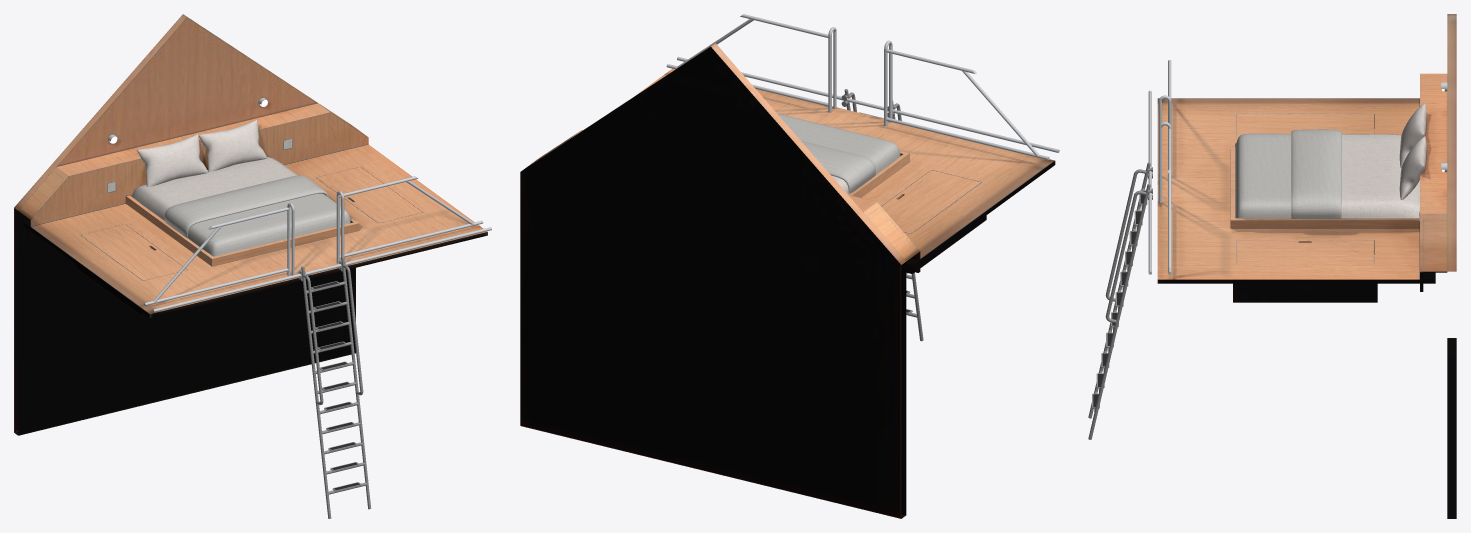
Rendered from Mezzanine King.glb.
3 renders of one model, left to right at view 1: azimuth 30°, elevation 25°; view 2: azimuth 150°, elevation 25°; view 3: azimuth 270°, elevation 25°, orthographic. The views are drawn at different scales.
Visible parts, largest first — view 1: Interior_Wood_Black_Base_Bed2.001, Interior_Wood_Bed_2, White_fabric_Bed _Bed_2, Alumininum_1_Bed_2, Alumininum_1_Bed.002; view 2: Interior_Wood_Black_Base_Bed2.001, Interior_Wood_Bed_2, Alumininum_1_Bed_2, White_fabric_Bed _Bed_2, Alumininum_1_Bed.002; view 3: Interior_Wood_Bed_2, White_fabric_Bed _Bed_2, Alumininum_1_Bed_2, Interior_Wood_Black_Base_Bed2.001, Alumininum_1_Bed.002.
Boxes of the visible parts, <box> form: Interior_Wood_Black_Base_Bed2.001: <box>14,14,355,435</box>; Interior_Wood_Bed_2: <box>18,103,487,317</box>; White_fabric_Bed _Bed_2: <box>132,119,350,256</box>; Alumininum_1_Bed_2: <box>108,98,483,518</box>; Alumininum_1_Bed.002: <box>152,227,491,312</box>; Interior_Wood_Black_Base_Bed2.001: <box>520,43,906,518</box>; Interior_Wood_Bed_2: <box>526,68,1055,273</box>; Alumininum_1_Bed_2: <box>666,14,1049,341</box>; White_fabric_Bed _Bed_2: <box>777,113,900,194</box>; Alumininum_1_Bed.002: <box>677,56,1059,152</box>; Interior_Wood_Bed_2: <box>1157,73,1447,302</box>; White_fabric_Bed _Bed_2: <box>1235,103,1426,218</box>; Alumininum_1_Bed_2: <box>1088,60,1447,439</box>; Interior_Wood_Black_Base_Bed2.001: <box>1447,14,1456,518</box>; Alumininum_1_Bed.002: <box>1148,90,1151,274</box>.
Bounding box in the file's own units: 1.88 × 2.01 × 1.62.
Materials: 10 (5 with a texture image).
